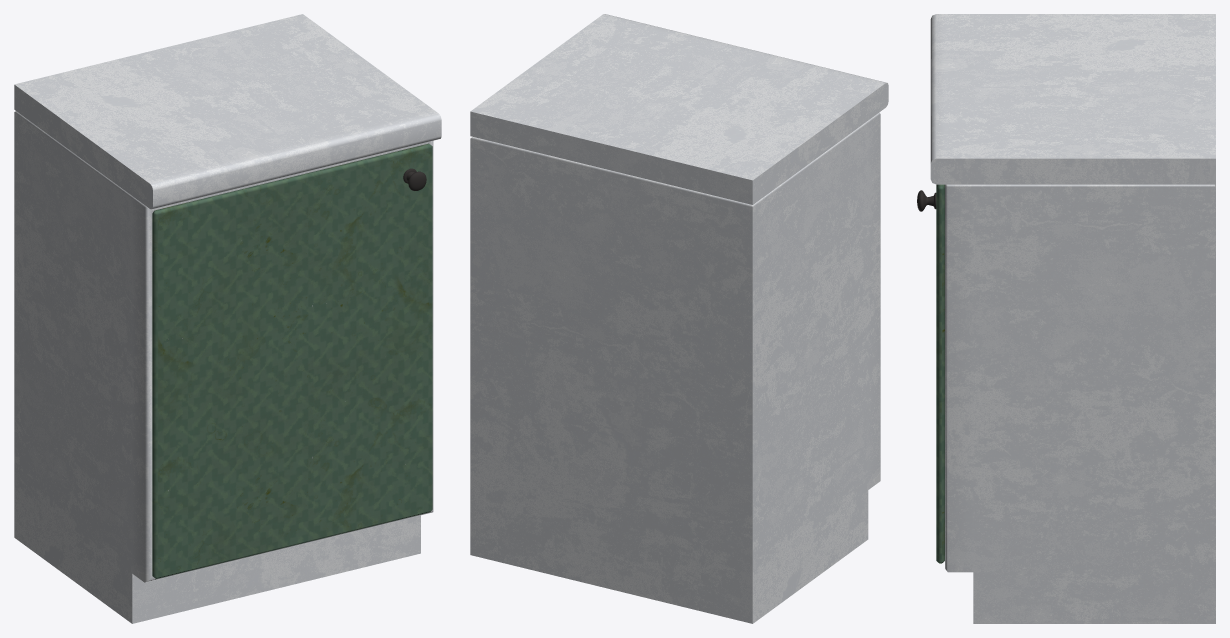
Rendered from Cabinet_A_3.fbx.
3 views of the same model, side by side, from view 1: azimuth 30°, elevation 25°; view 2: azimuth 150°, elevation 25°; view 3: azimuth 270°, elevation 25° (orthographic). The views are drawn at different scales.
Visible parts, largest first — view 1: Cabinet_A_3, Cabinet_A_3_Drawer; view 2: Cabinet_A_3; view 3: Cabinet_A_3, Cabinet_A_3_Drawer.
Part boxes in pixels (box(x1,y1,x2,y2)): Cabinet_A_3: box(14, 14, 441, 623); Cabinet_A_3_Drawer: box(152, 143, 432, 578); Cabinet_A_3: box(470, 14, 888, 623); Cabinet_A_3: box(930, 14, 1215, 623); Cabinet_A_3_Drawer: box(917, 184, 944, 563).
Size of the model in its own units: 60 by 90 by 52.39.
